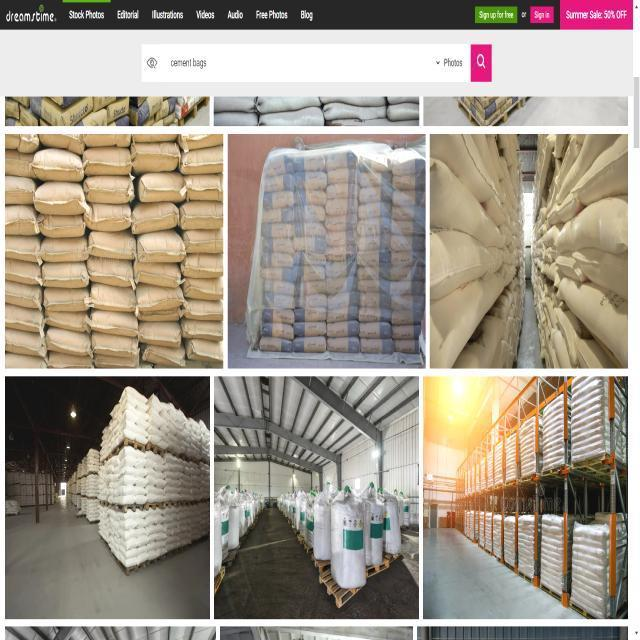gunny_bag: (430, 265, 516, 368), (430, 158, 505, 247), (559, 276, 629, 367), (430, 229, 504, 299), (556, 196, 629, 253), (573, 134, 629, 204), (573, 247, 628, 299), (29, 147, 84, 180), (33, 180, 85, 214), (129, 140, 180, 174), (86, 255, 134, 289), (134, 171, 186, 202), (131, 200, 179, 233), (137, 229, 186, 261), (82, 174, 134, 202), (82, 145, 132, 174), (88, 229, 136, 259), (89, 281, 137, 311), (45, 326, 92, 356), (178, 143, 223, 174), (83, 202, 131, 231), (133, 258, 181, 287), (135, 283, 184, 311), (89, 308, 137, 336), (4, 302, 44, 334), (179, 200, 223, 229), (40, 235, 88, 261), (41, 261, 89, 287), (91, 331, 137, 357), (42, 286, 89, 311), (37, 213, 85, 237), (179, 226, 223, 252), (137, 321, 181, 347), (183, 172, 223, 200), (180, 252, 223, 277), (4, 257, 42, 285), (4, 281, 42, 308), (4, 204, 38, 234), (181, 276, 223, 300), (4, 234, 40, 261), (552, 329, 576, 369), (183, 298, 223, 320), (317, 276, 358, 294), (294, 169, 327, 189), (359, 184, 393, 203), (358, 200, 392, 218), (325, 213, 357, 231), (359, 321, 392, 338), (261, 322, 294, 339), (293, 336, 327, 352), (264, 190, 294, 208), (261, 251, 294, 267), (327, 336, 360, 352), (294, 321, 327, 337), (391, 219, 426, 234), (327, 183, 359, 199), (295, 306, 327, 322), (391, 250, 425, 265), (263, 237, 294, 253), (358, 279, 391, 294), (326, 245, 356, 261), (392, 309, 424, 324), (298, 264, 326, 281), (261, 267, 295, 281), (303, 204, 326, 221), (295, 206, 300, 220)
